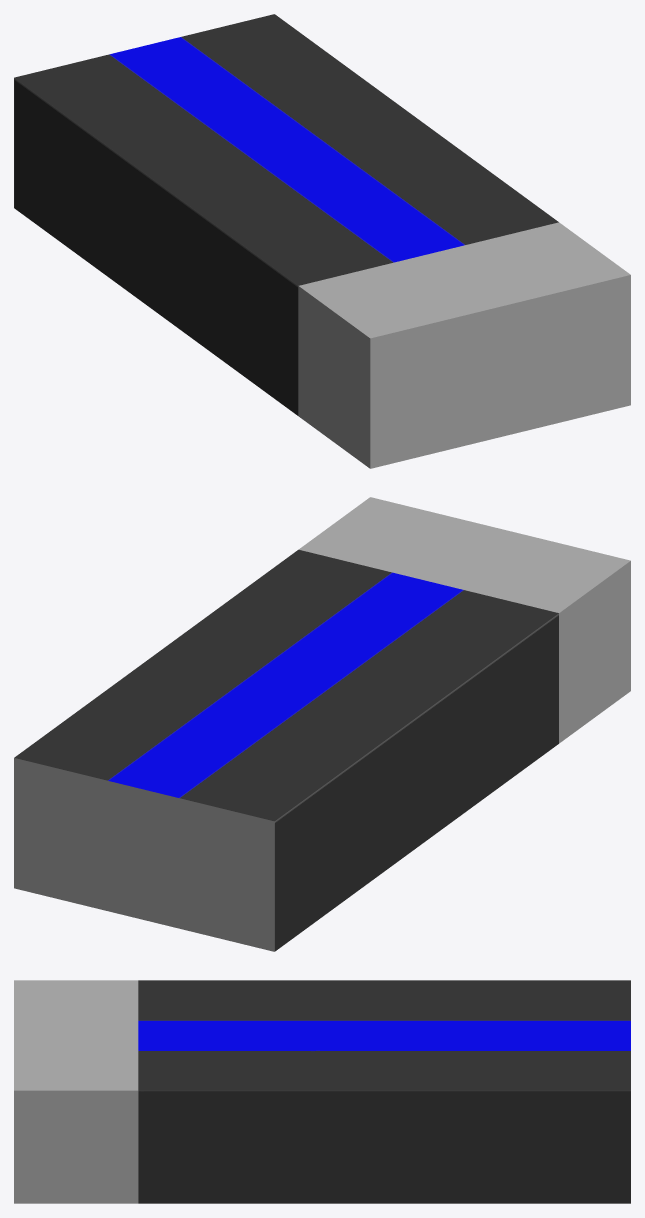
The model's file is enemy_eraser_02.glb.
3 views of the same model, one above another, from view 1: azimuth 30°, elevation 25°; view 2: azimuth 150°, elevation 25°; view 3: azimuth 270°, elevation 25° (orthographic). The views are drawn at different scales.
Visible parts, largest first — view 1: obj1; view 2: obj1; view 3: obj1.
Part boxes in pixels (x1,y1,x2,y2): obj1: (14,14,630,468); obj1: (14,497,630,951); obj1: (14,980,630,1203).
Size of the model in its own units: 2.3 by 1.1 by 5.45.
Materials: 1 (1 with a texture image).
